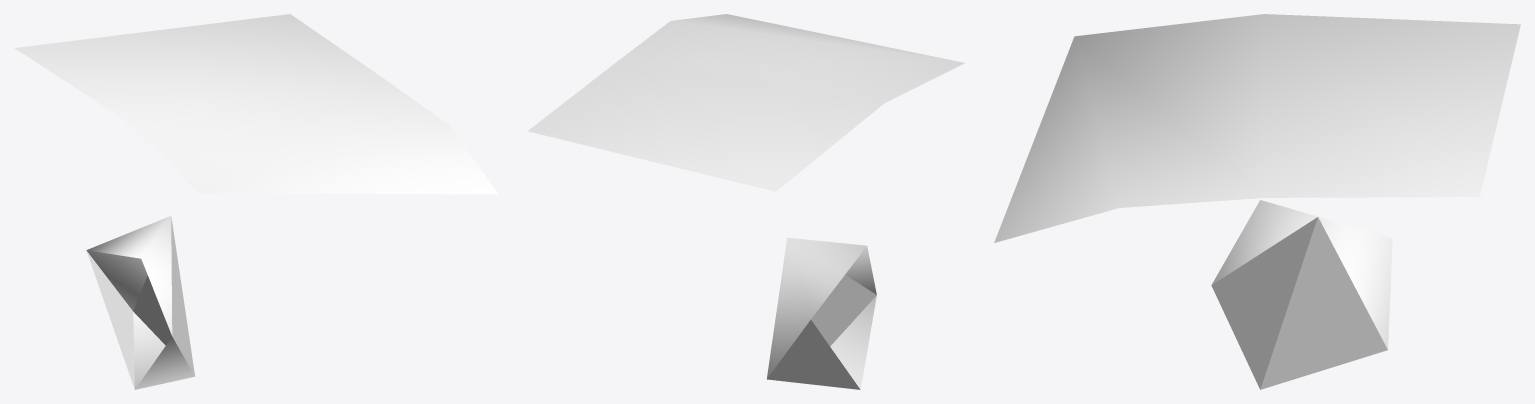
The picture shows the model from 3 angles, left to right: view 1: azimuth 30°, elevation 25°; view 2: azimuth 150°, elevation 25°; view 3: azimuth 270°, elevation 25°; orthographic projection. The views are drawn at different scales.
Bounding box in the file's own units: 0.2987 × 0.2979 × 0.4199.
1 material, 1 textured.
